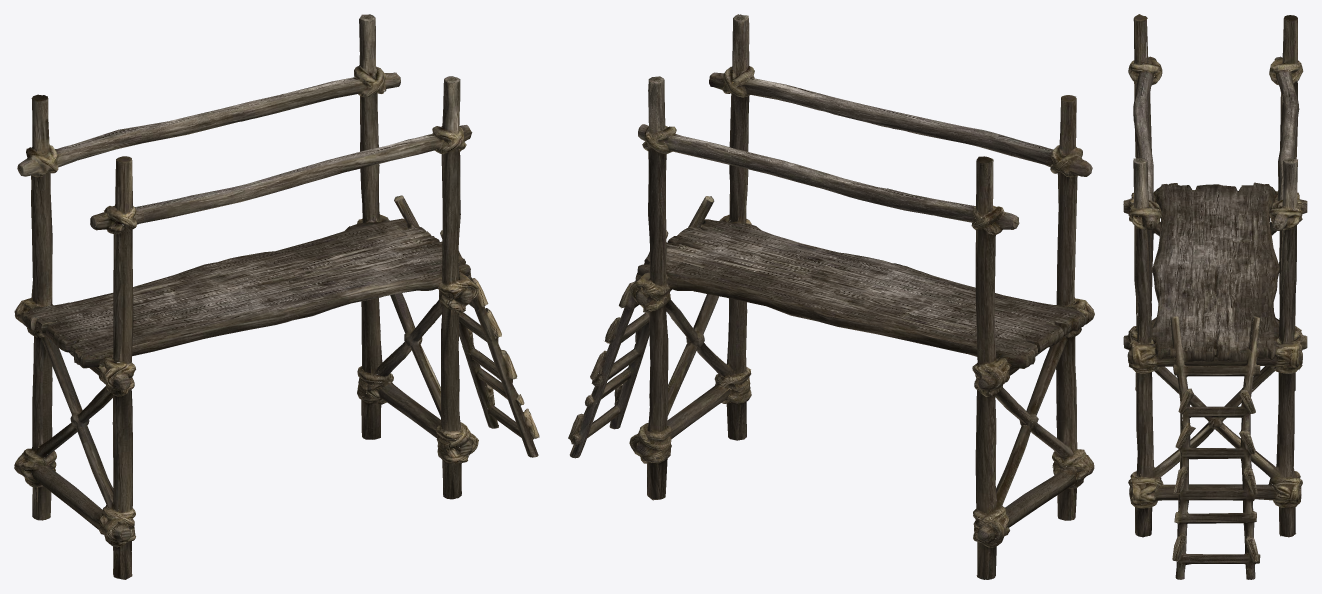
The model's file is scaffold-low.glb.
The picture shows the model from 3 angles, left to right: view 1: azimuth 30°, elevation 25°; view 2: azimuth 150°, elevation 25°; view 3: azimuth 270°, elevation 25°; orthographic projection. The views are drawn at different scales.
Visible parts, largest first — view 1: Mesh_0; view 2: Mesh_0; view 3: Mesh_0.
Boxes of the visible parts, x1,y1,x2,y2 form: Mesh_0: (14, 14, 539, 579); Mesh_0: (568, 14, 1094, 579); Mesh_0: (1123, 14, 1307, 579).
Bounding box in the file's own units: 1.9 × 1.63 × 0.7279.
1 material, 1 textured.
